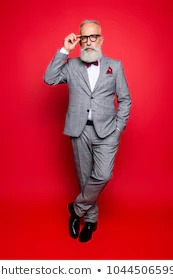F_dress pants: (68, 120, 119, 229)
